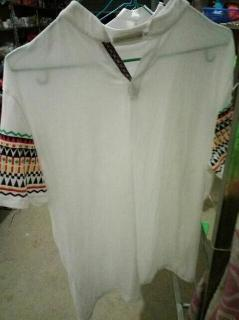short sleeve top: (0, 0, 237, 319)
